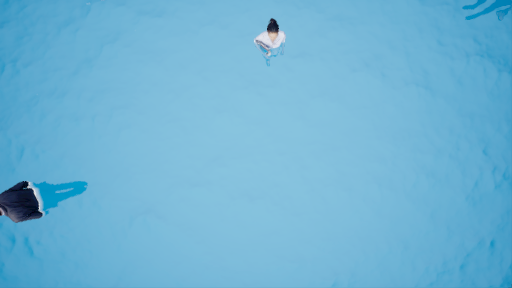person: (1, 176, 91, 220), (254, 11, 301, 80)
